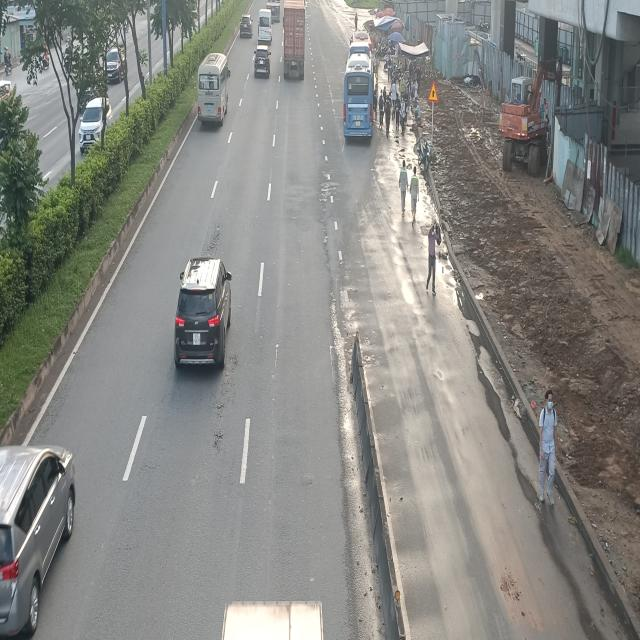car: (0, 448, 74, 640), (173, 257, 234, 370), (253, 44, 271, 78), (240, 16, 254, 40)
coach: (343, 44, 374, 144), (197, 52, 231, 126)
container: (282, 1, 306, 81)
van: (258, 8, 272, 43)
